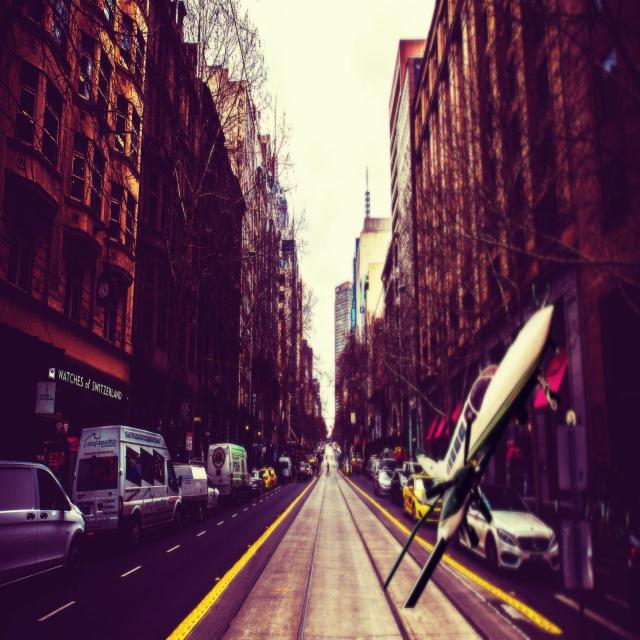airplane: (383, 302, 555, 608)
